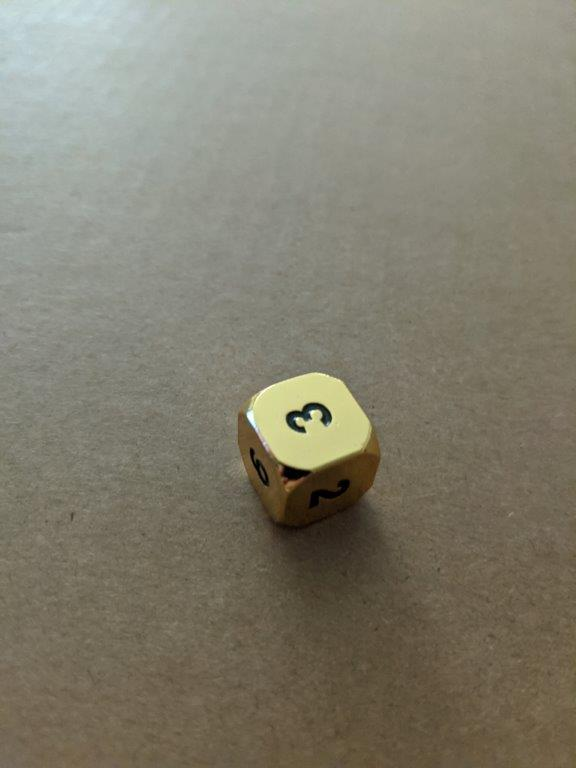d6-3: (234, 367, 381, 533)
